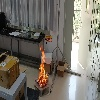fire: (38, 45, 48, 87)
